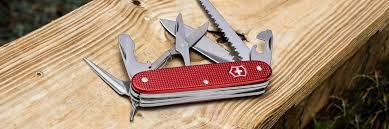Knife: (84, 0, 275, 122)
